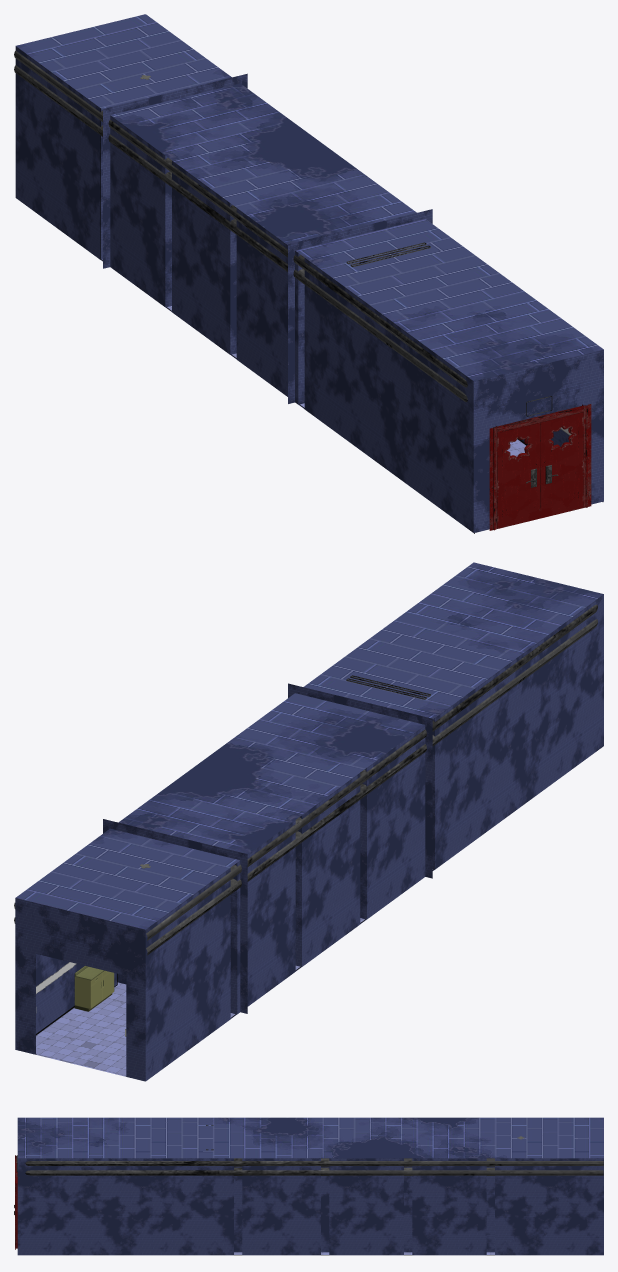
File: Slide_Level_N.fbx
3 views of the same model, one above another, from view 1: azimuth 30°, elevation 25°; view 2: azimuth 150°, elevation 25°; view 3: azimuth 270°, elevation 25° (orthographic). The views are drawn at different scales.
Parts seen in each view (by area): view 1: Wall, Roof, Pipe, Wall2, polySurface133, polySurface132, polySurface183; view 2: Wall, Roof, Pipe, Floor, Wall2, Cabinet1; view 3: Wall, Roof, Pipe.
Boxes of the visible parts, x1,y1,x2,y2 form: Wall: (15, 46, 603, 532); Roof: (16, 14, 603, 380); Pipe: (14, 50, 467, 402); Wall2: (103, 73, 432, 403); polySurface133: (497, 422, 540, 528); polySurface132: (540, 412, 583, 518); polySurface183: (489, 404, 591, 530); Wall: (15, 594, 603, 1081); Roof: (15, 562, 603, 929); Pipe: (14, 604, 597, 955); Floor: (36, 869, 434, 1076); Wall2: (103, 683, 432, 1013); Cabinet1: (74, 966, 114, 1011); Wall: (17, 1158, 603, 1255); Roof: (17, 1117, 603, 1158); Pipe: (25, 1158, 603, 1175).
Size of the model in its own units: 10.33 by 10.98 by 57.05.
